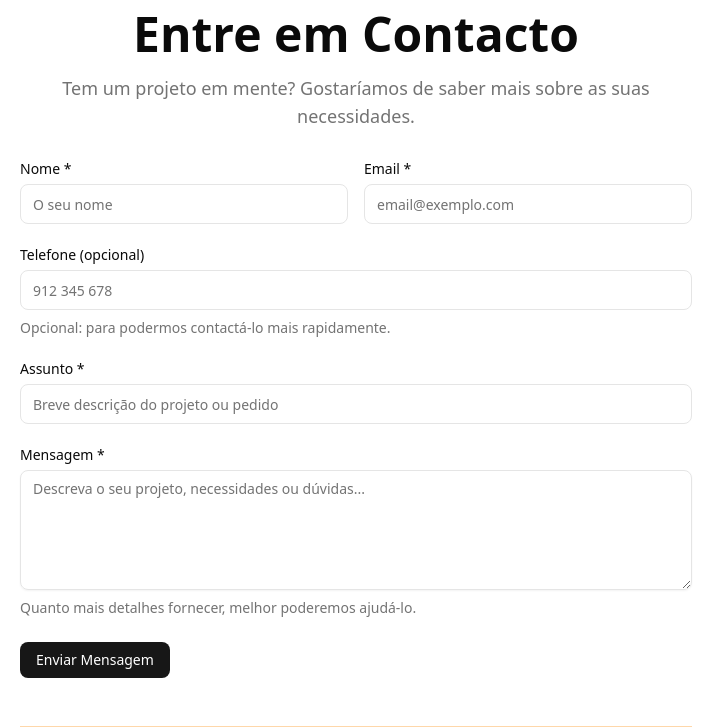
Test case: ContactPage › Form validation › shows error when name is too short
Type "A" into the field labelled "Nome *" at (184, 204), box x1=20 y1=184 x2=348 y2=224
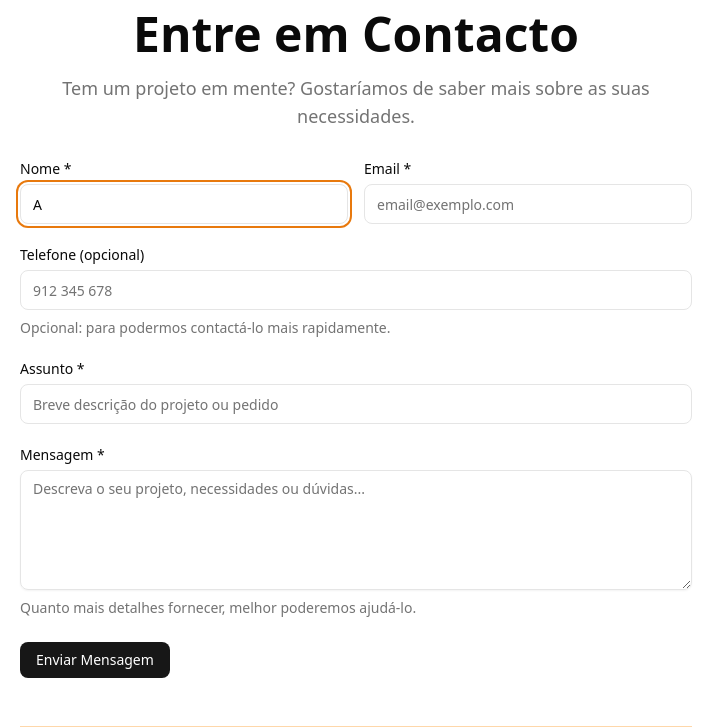
Click the button "Enviar Mensagem" at (95, 660), box x1=20 y1=642 x2=170 y2=678
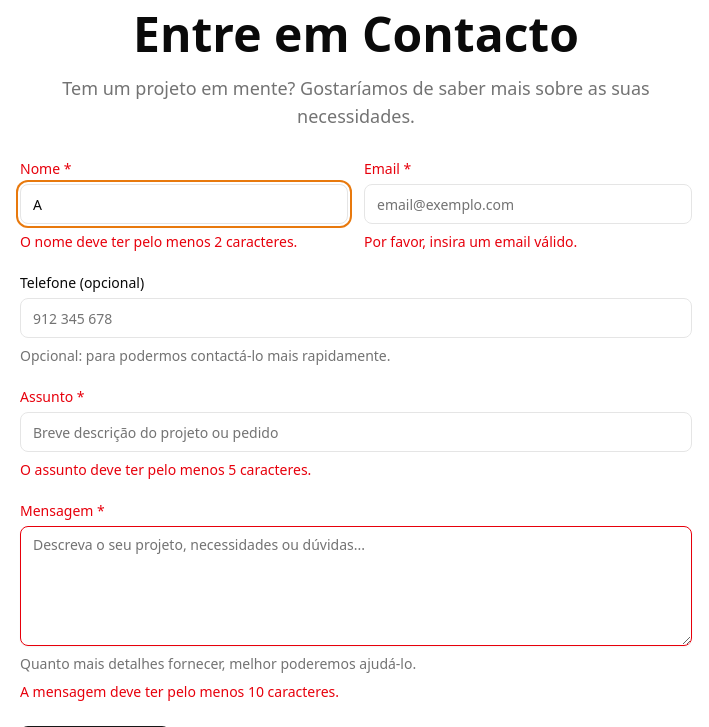
Result: the text "O nome deve ter pelo menos 2 caracteres." is shown at x1=20 y1=232 x2=297 y2=251
